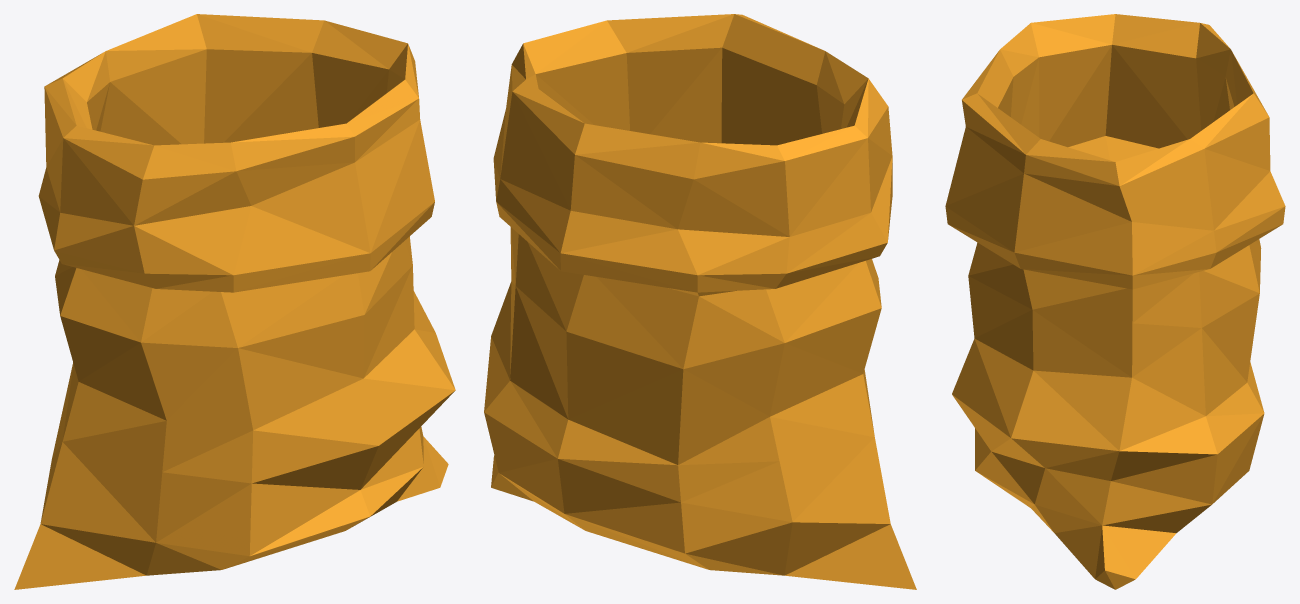
The model's file is SM_Bag_Standing_Open_Farm.fbx.
3 renders of one model, left to right at view 1: azimuth 30°, elevation 25°; view 2: azimuth 150°, elevation 25°; view 3: azimuth 270°, elevation 25°, orthographic. The views are drawn at different scales.
Parts seen in each view (by area): view 1: bag-standing-open-farm; view 2: bag-standing-open-farm; view 3: bag-standing-open-farm.
Part boxes in pixels (bbox=[...]): bag-standing-open-farm: bbox=[14, 14, 455, 589]; bag-standing-open-farm: bbox=[484, 14, 916, 589]; bag-standing-open-farm: bbox=[945, 14, 1285, 589].
Size of the model in its own units: 0.6185 by 0.632 by 0.46.
